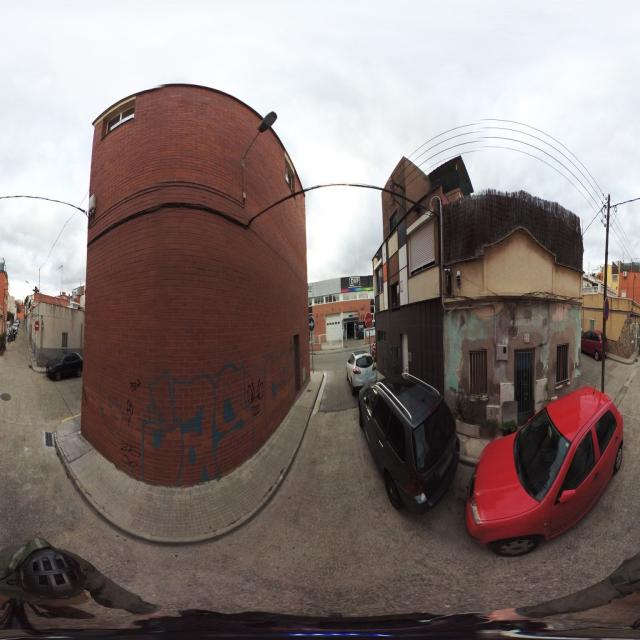forb_stopping: (604, 297, 609, 322)
